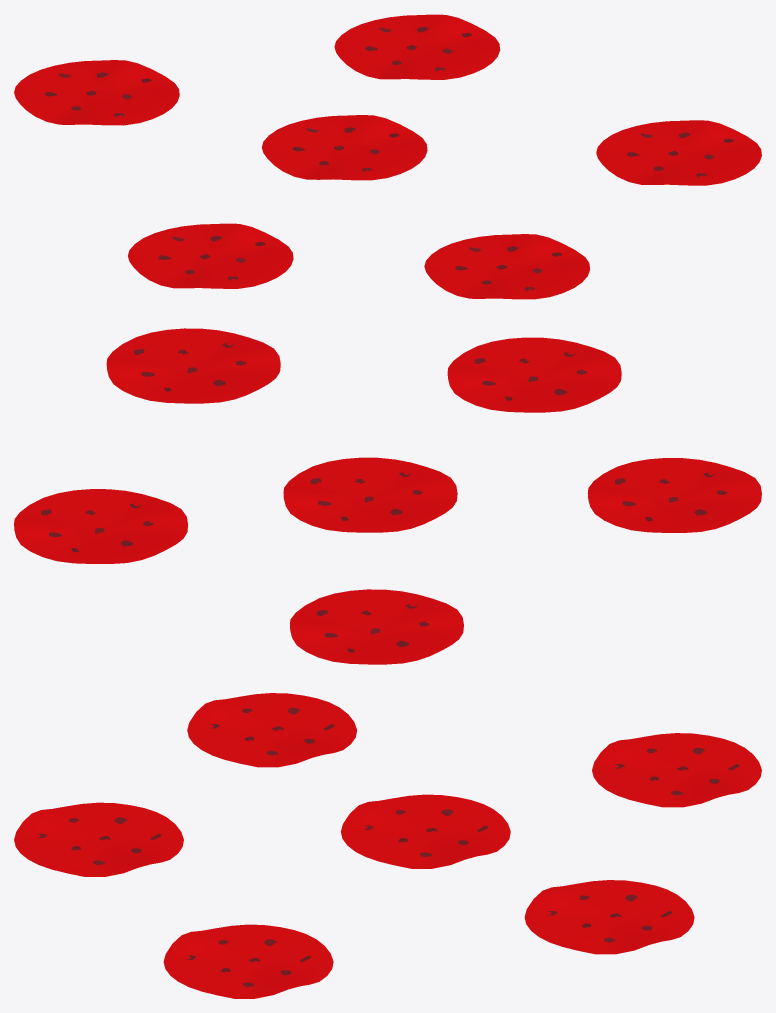
Rendered from pepperoni_v3.fbx.
The picture shows the model from 3 angles, top to bottom: view 1: azimuth 30°, elevation 25°; view 2: azimuth 150°, elevation 25°; view 3: azimuth 270°, elevation 25°; orthographic projection. The views are drawn at different scales.
Visible parts, largest first — view 1: Circle.004, Circle.035, Circle.005, Circle.001, Circle.003, Circle.002; view 2: Circle.005, Circle.003, Circle.035, Circle.002, Circle.001, Circle.004; view 3: Circle.001, Circle.003, Circle.004, Circle.002, Circle.035, Circle.005.
Part boxes in pixels (x1,y1,x2,y2): Circle.004: (128, 223, 293, 288); Circle.035: (424, 234, 589, 299); Circle.005: (261, 115, 427, 180); Circle.001: (334, 14, 500, 79); Circle.003: (14, 60, 179, 125); Circle.002: (596, 120, 761, 185); Circle.005: (283, 457, 457, 532); Circle.003: (290, 589, 463, 664); Circle.035: (447, 337, 621, 412); Circle.002: (106, 328, 280, 403); Circle.001: (14, 489, 187, 563); Circle.004: (587, 458, 761, 532); Circle.001: (524, 880, 694, 954); Circle.003: (592, 733, 761, 807); Circle.004: (187, 693, 356, 767); Circle.002: (163, 924, 333, 998); Circle.035: (14, 802, 183, 876); Circle.005: (341, 794, 510, 868).
Bounding box in the file's own units: 112 × 1.98 × 117.
